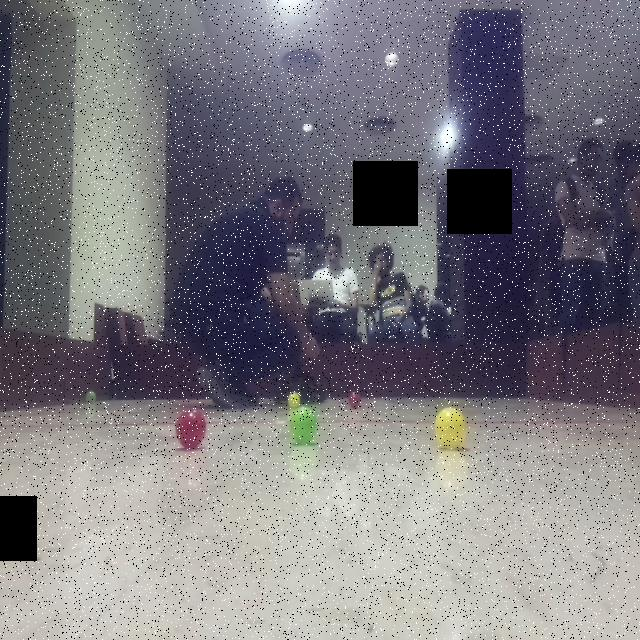ball: (432, 401, 470, 452), (285, 404, 322, 446), (174, 408, 209, 449), (343, 385, 366, 410), (282, 388, 306, 408), (83, 386, 104, 406)
